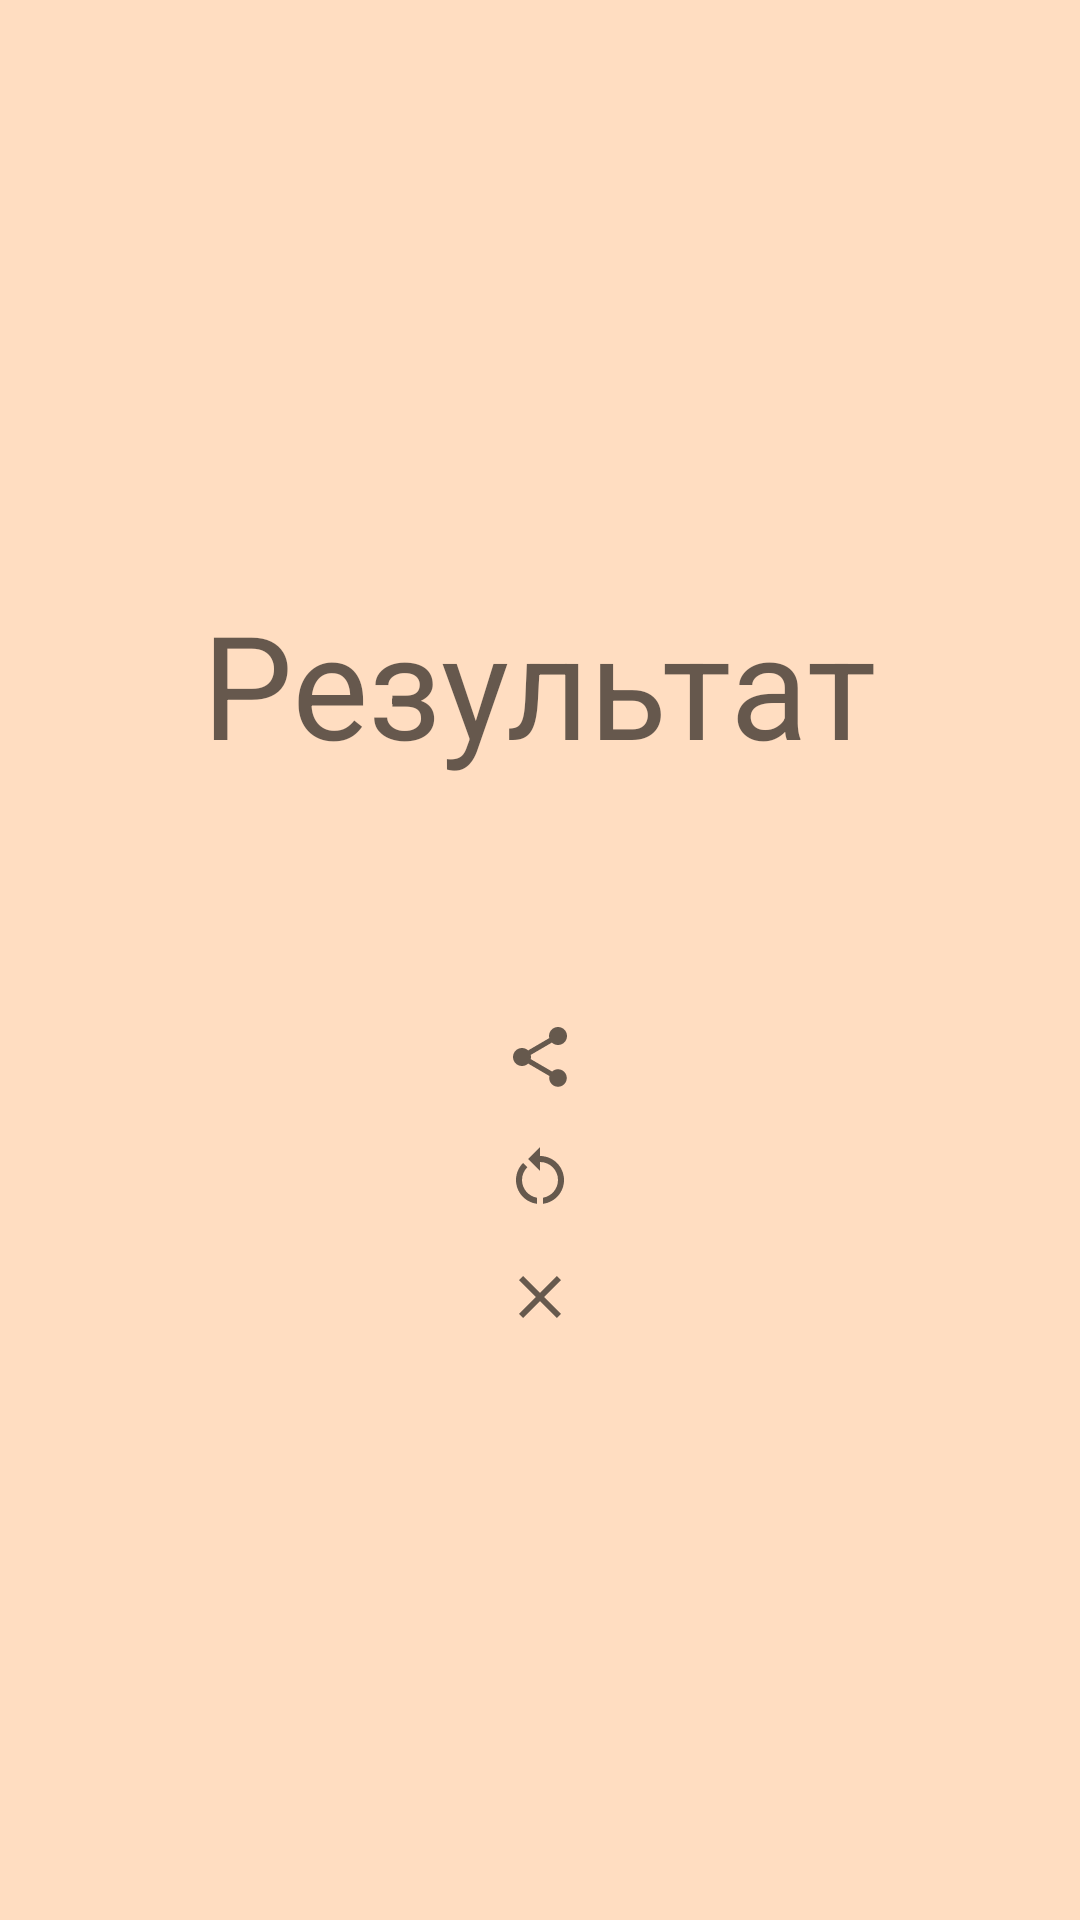

Icons on this 1080 × 1920 Android screen, each with the point to tap as (x,y):
close: (540,1297)
restart: (540,1175)
share: (540,1057)
